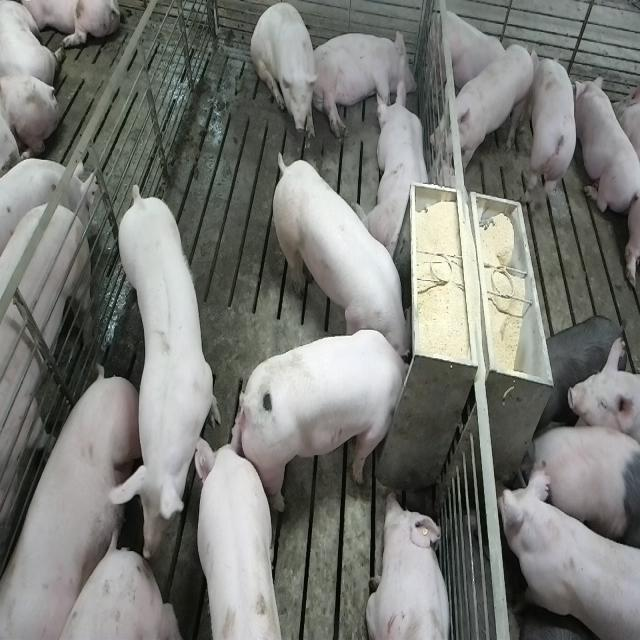Feeding: (240, 328, 420, 513), (268, 143, 410, 358)
Lateral_lying: (311, 26, 417, 140)
Sitting: (251, 2, 320, 146)
Standing: (0, 196, 94, 636), (113, 187, 220, 530), (494, 458, 638, 638), (198, 440, 289, 640), (519, 420, 637, 548), (437, 46, 536, 174), (538, 312, 626, 420)
Sternal_lying: (359, 80, 432, 263), (366, 490, 454, 640), (573, 68, 637, 217), (427, 4, 511, 98)
